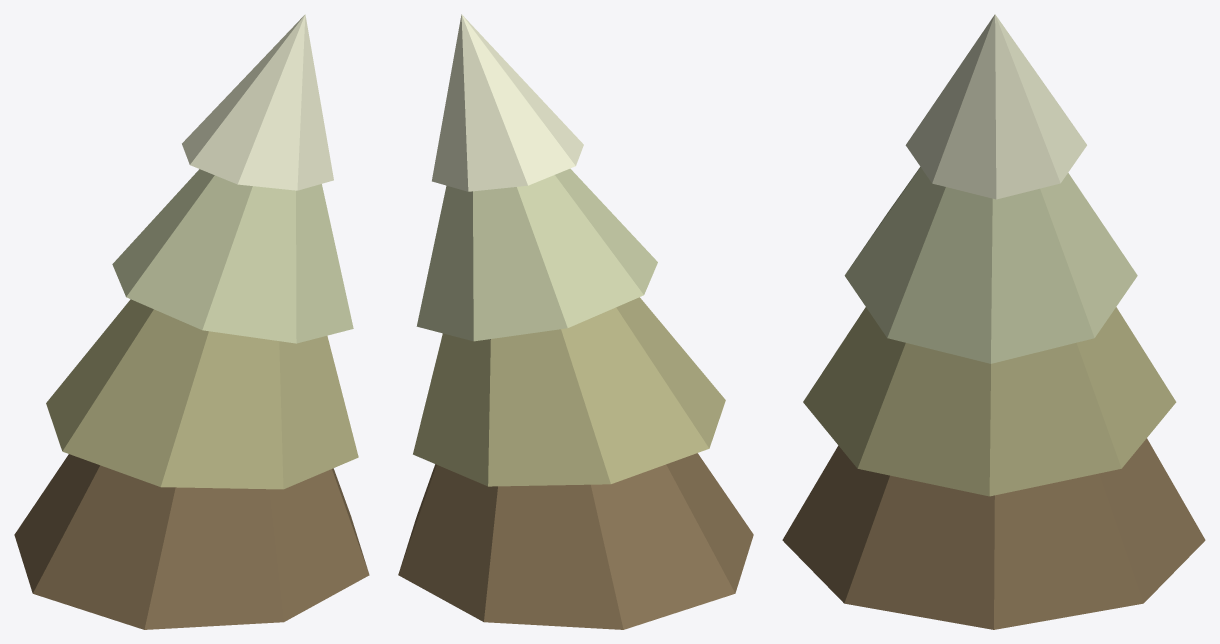
File: 01_02Tree_Brown.fbx
3 views of the same model, side by side, from view 1: azimuth 30°, elevation 25°; view 2: azimuth 150°, elevation 25°; view 3: azimuth 270°, elevation 25° (orthographic). The views are drawn at different scales.
Parts seen in each view (by area): view 1: Cone.001; view 2: Cone.001; view 3: Cone.001.
Boxes of the visible parts, x1,y1,x2,y2 form: Cone.001: (14,14,369,629); Cone.001: (398,14,753,629); Cone.001: (782,14,1205,629).
Size of the model in its own units: 125 by 192 by 125.
